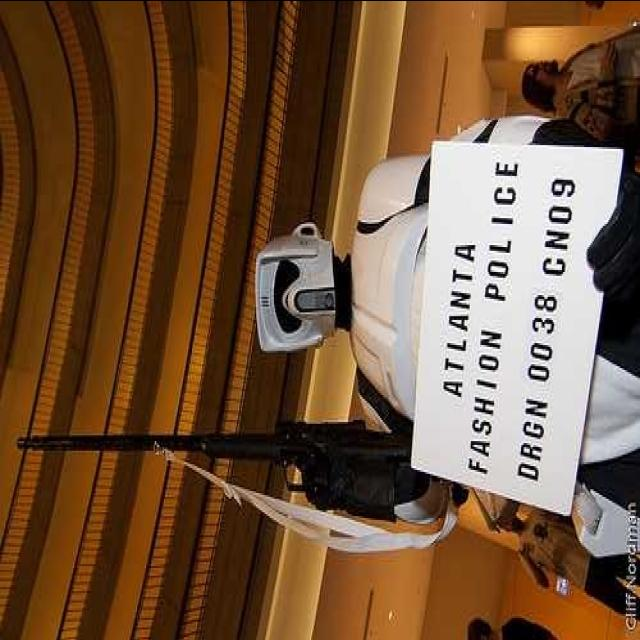heavyweapon: (1, 384, 462, 516)
